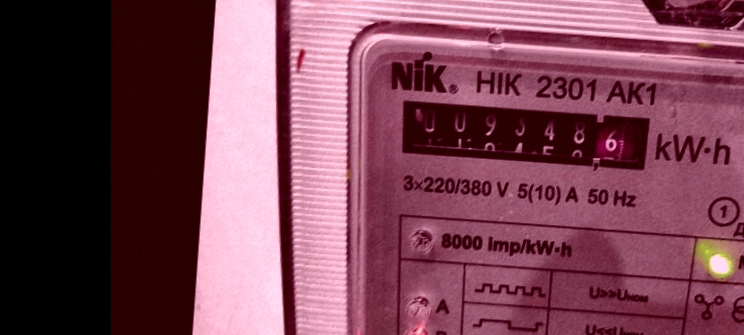0: (422, 108, 439, 135), (453, 107, 469, 134)
3: (514, 112, 529, 138)
4: (540, 112, 560, 143)
6: (603, 125, 622, 155)
8: (572, 117, 589, 146)
9: (483, 112, 499, 140)
screen: (383, 85, 665, 183)
